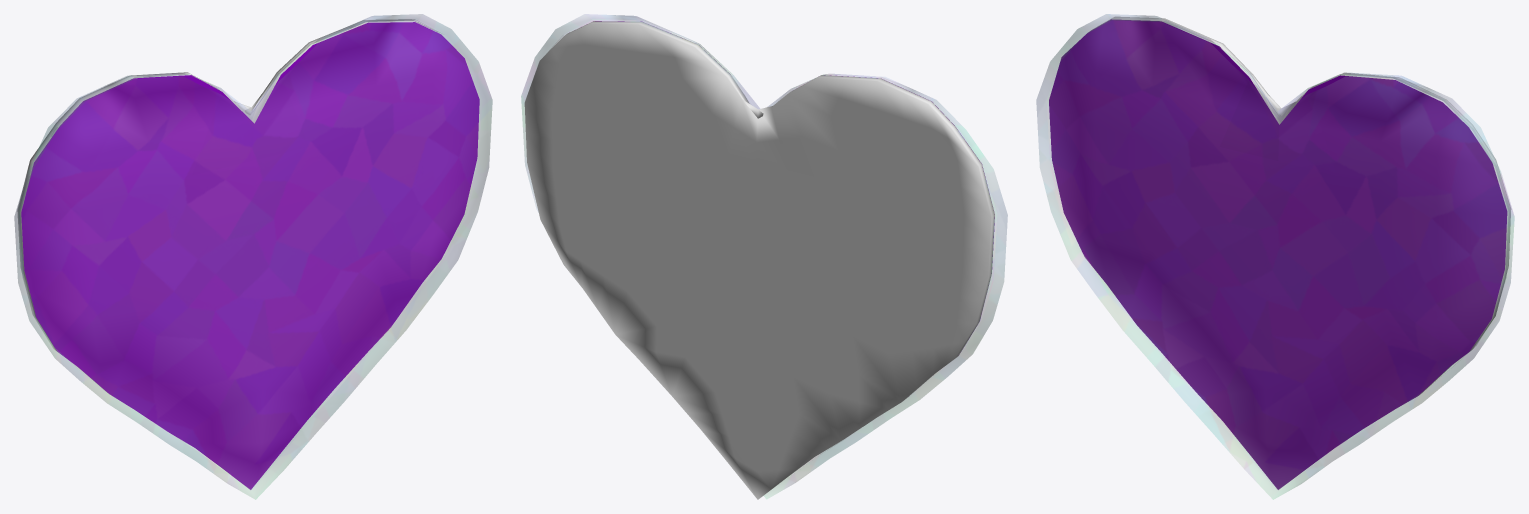
Rendered from hurt_pur_holo.glb.
3 views of the same model, side by side, from view 1: azimuth 30°, elevation 25°; view 2: azimuth 150°, elevation 25°; view 3: azimuth 330°, elevation 25° (orthographic).
Visible parts, largest first — view 1: 平面, PHOTO_PLANE, 平面11; view 2: 平面11, 平面; view 3: 平面, PHOTO_PLANE, 平面11.
Part boxes in pixels (x1,y1,x2,y2): 平面: (14, 14, 492, 499); PHOTO_PLANE: (21, 22, 479, 489); 平面11: (17, 19, 439, 391); 平面11: (524, 21, 994, 499); 平面: (521, 14, 1007, 498); 平面: (1036, 14, 1514, 499); PHOTO_PLANE: (1049, 19, 1507, 489); 平面11: (1091, 16, 1511, 394).
Size of the model in its own units: 2.28 by 2.05 by 0.1344.
3 materials, 1 textured.
